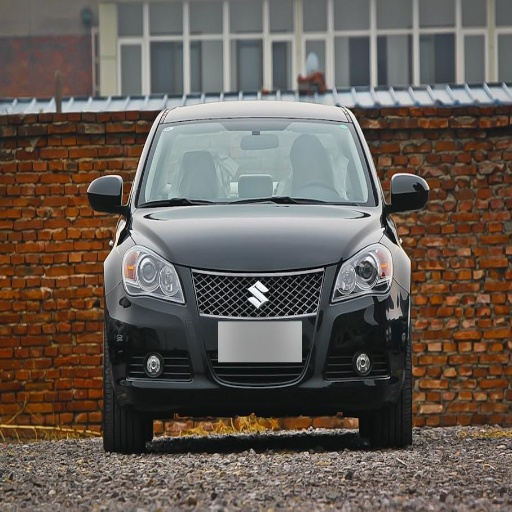front_bumper: (107, 261, 403, 406)
front_right_light: (122, 248, 184, 304)
hood: (131, 204, 383, 270)
left_mirror: (388, 174, 428, 212)
